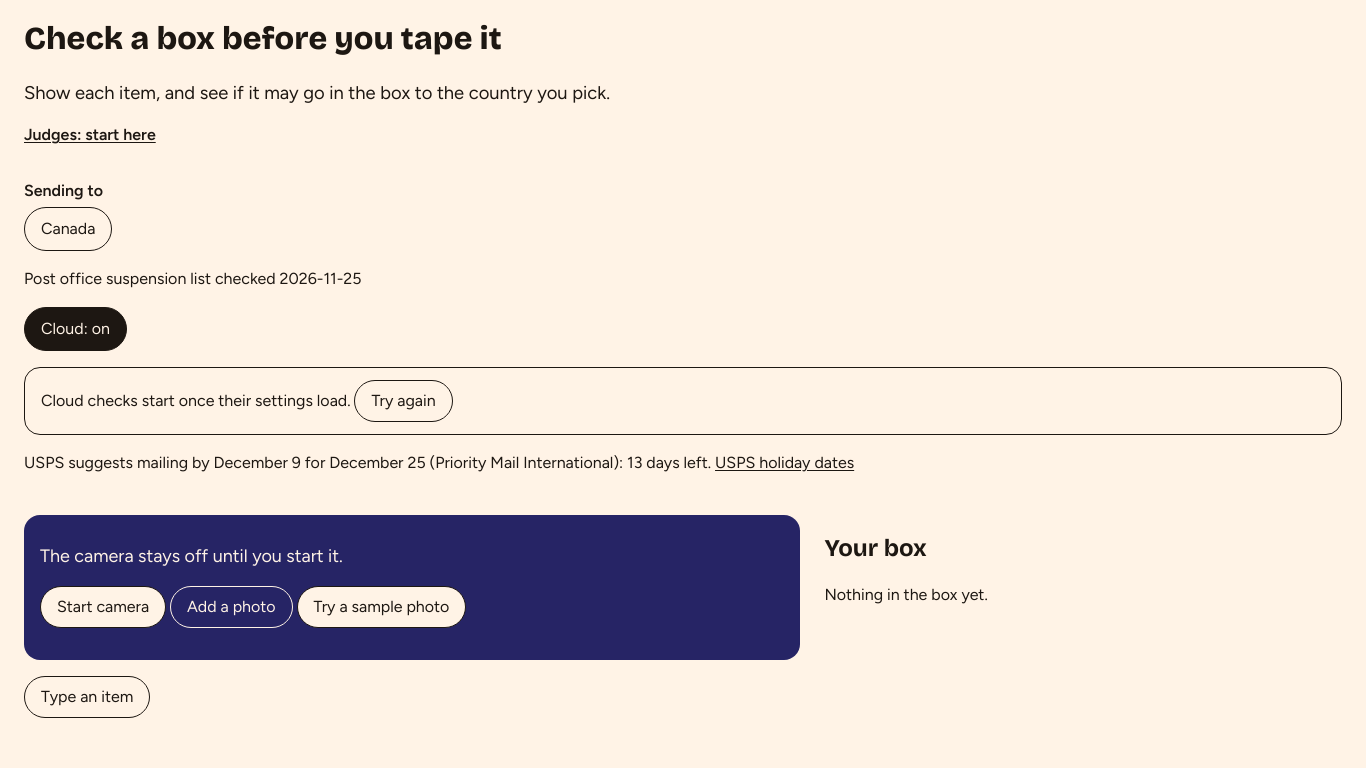
Scenario: LivePack › offers to load the cloud settings again while they are not known, and asks Remote Config again
This screenshot has width=1366, height=768.
Step 1. Click the button "Try again" → [404, 401], box [354, 380, 453, 422]
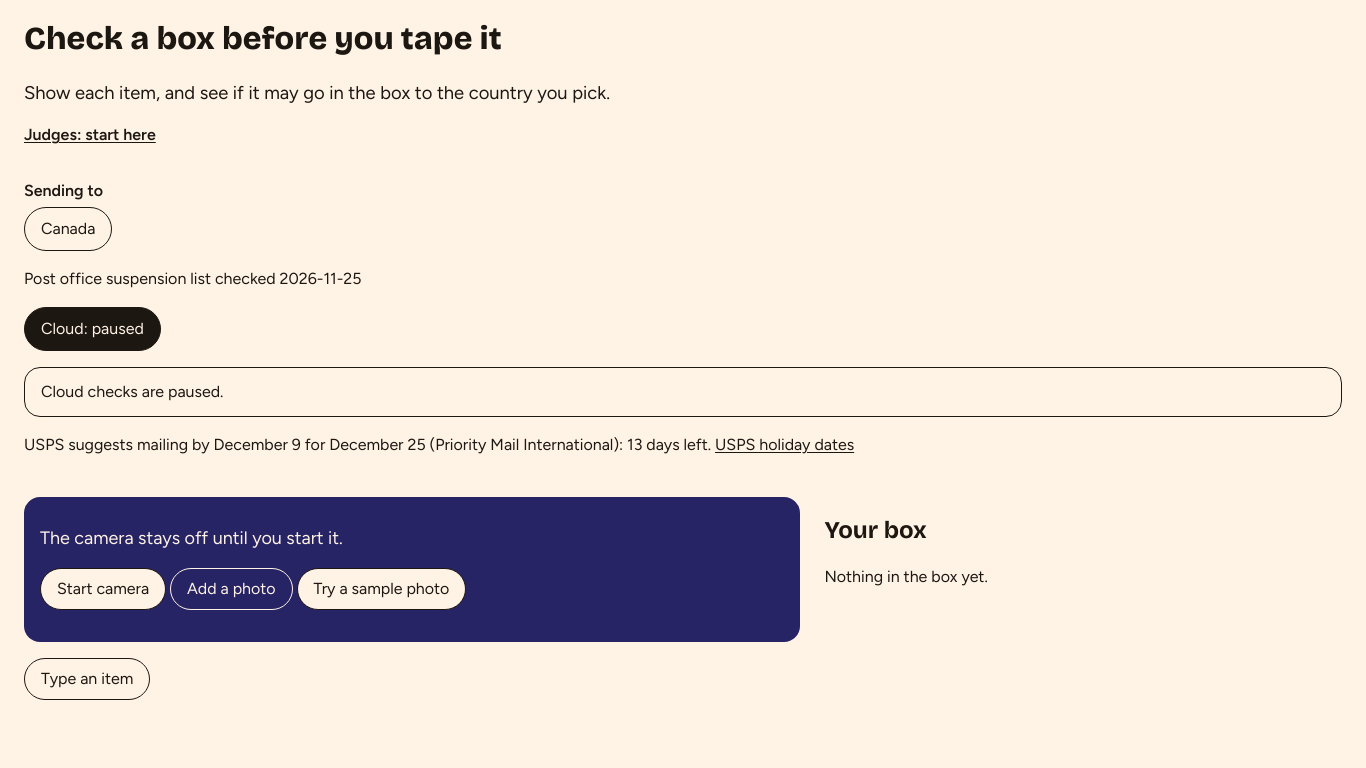
Check: the button "Try again" is gone
